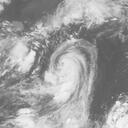cyclone: (47, 38, 97, 97)
